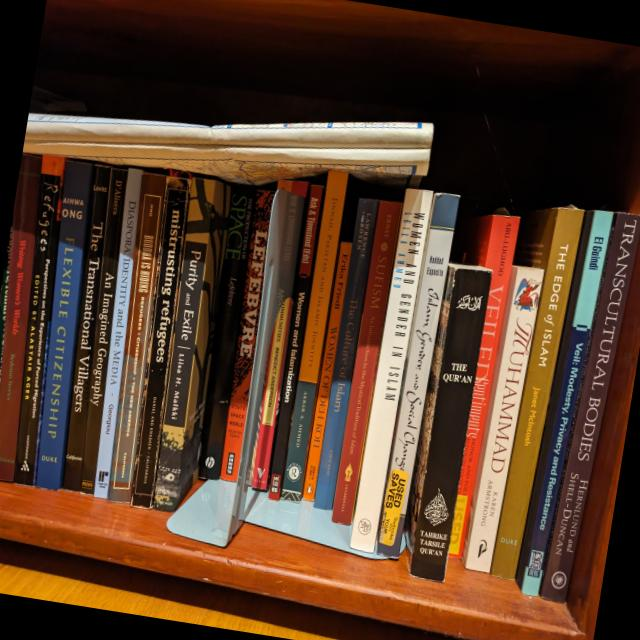book: (465, 200, 584, 581), (512, 207, 615, 598), (538, 210, 640, 604), (419, 209, 521, 559), (373, 191, 460, 560), (348, 187, 434, 554), (398, 262, 493, 582), (150, 177, 234, 515), (458, 264, 545, 574), (329, 199, 403, 525), (280, 171, 349, 504), (312, 198, 379, 510), (106, 172, 168, 505), (33, 160, 95, 491), (130, 178, 191, 510), (265, 185, 326, 500), (11, 155, 67, 487), (196, 184, 257, 481), (92, 168, 145, 498), (218, 190, 276, 482), (62, 164, 112, 492), (79, 167, 128, 495), (0, 154, 43, 482), (301, 242, 353, 502), (250, 296, 294, 491)
